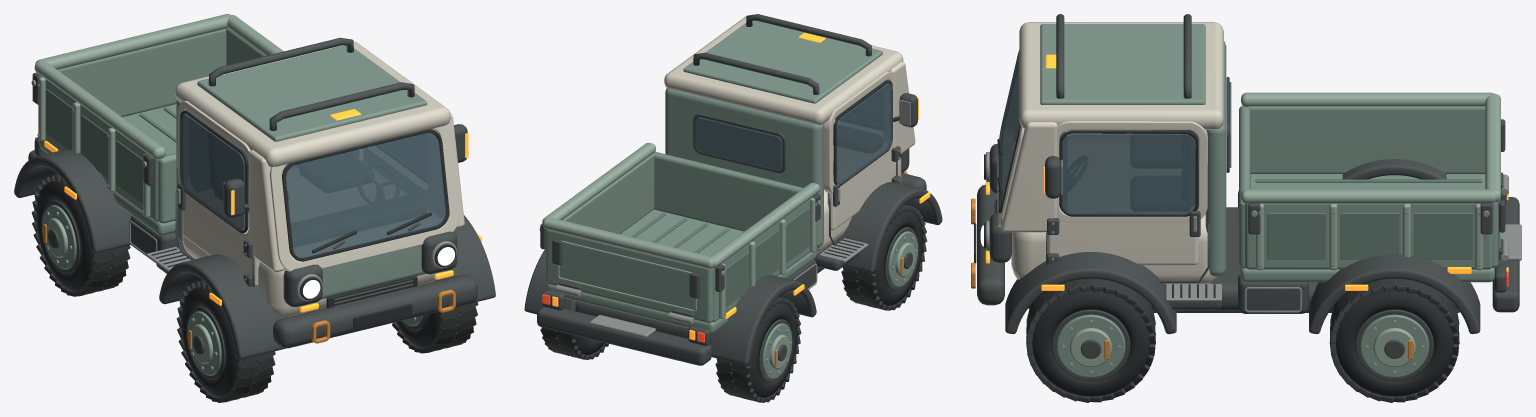
The model's file is cargo_rover.glb.
3 renders of one model, left to right at view 1: azimuth 30°, elevation 25°; view 2: azimuth 150°, elevation 25°; view 3: azimuth 270°, elevation 25°, orthographic. The views are drawn at different scales.
Visible parts, largest first — view 1: Front windshield, Roof recessed sage panel, Tailgate, Cab rounded roof, Rounded fender, Broad rounded front bumper, Rounded fender.001, Side door window, Ivory windshield surround, Front sage service panel, Tailgate top rolled rail, Solid rounded front cab pillar (+41 smaller); view 2: Roof recessed sage panel, Tailgate, Cab rear structural wall, Cargo bed front wall, Cab rounded roof, Cargo bed floor, Rounded fender.001, Side door window, Rounded fender, Cargo side wall.001, Rear bumper, Rear cab glass (+35 smaller); view 3: Cargo side wall, Roof recessed sage panel, Side door window.001, Cab rounded roof, Tyre_R_R, Tyre_R_F, Rounded fender.002, Lower door outer panel.001, Rounded fender.003, Cargo side wall.001, Cargo bed floor, Solid rounded front cab pillar.001 (+35 smaller).
Boxes of the visible parts, x1,y1,x2,y2 form: Front windshield: [285, 133, 446, 257]; Roof recessed sage panel: [197, 45, 427, 141]; Tailgate: [58, 29, 226, 116]; Cab rounded roof: [175, 41, 450, 167]; Rounded fender: [159, 254, 287, 359]; Broad rounded front bumper: [273, 275, 477, 348]; Rounded fender.001: [14, 149, 131, 253]; Side door window: [180, 114, 245, 230]; Ivory windshield surround: [269, 124, 459, 271]; Front sage service panel: [321, 245, 425, 299]; Tailgate top rolled rail: [35, 14, 230, 69]; Solid rounded front cab pillar: [249, 150, 284, 271]; Roof recessed sage panel: [683, 20, 882, 103]; Tailgate: [546, 229, 712, 322]; Cab rear structural wall: [665, 88, 823, 247]; Cargo bed front wall: [654, 151, 803, 231]; Cab rounded roof: [664, 16, 903, 125]; Cargo bed floor: [546, 209, 816, 333]; Rounded fender.001: [709, 275, 816, 365]; Side door window: [836, 83, 892, 184]; Rounded fender: [837, 182, 942, 272]; Cargo side wall.001: [562, 153, 654, 234]; Rear bumper: [537, 307, 711, 365]; Rear cab glass: [695, 118, 781, 170]; Cargo side wall: [1246, 106, 1485, 173]; Roof recessed sage panel: [1040, 24, 1205, 104]; Side door window.001: [1062, 133, 1195, 214]; Cab rounded roof: [1019, 22, 1223, 129]; Tyre_R_R: [1335, 290, 1453, 396]; Tyre_R_F: [1032, 290, 1149, 396]; Rounded fender.002: [1005, 252, 1176, 334]; Lower door outer panel.001: [1048, 220, 1198, 265]; Rounded fender.003: [1309, 254, 1480, 334]; Cargo side wall.001: [1245, 203, 1492, 269]; Cargo bed floor: [1240, 174, 1494, 282]; Solid rounded front cab pillar.001: [1001, 122, 1057, 232].
Size of the model in its own units: 2.33 by 2.41 by 4.05.
